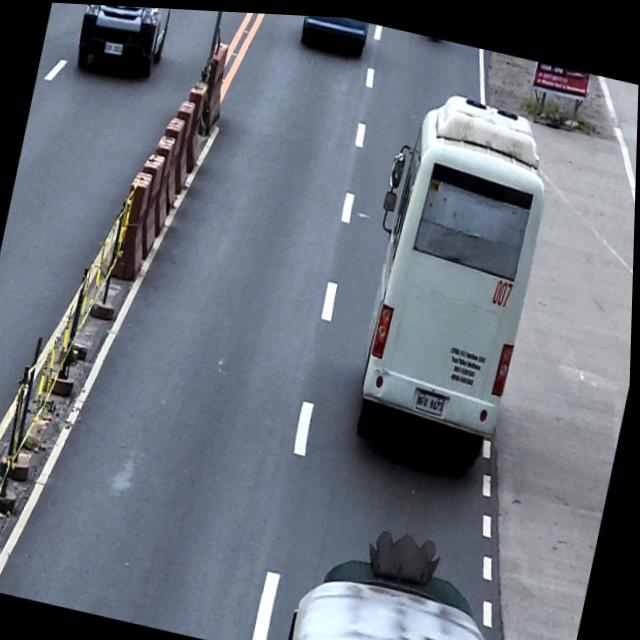Bus: (339, 71, 566, 472)
Car: (71, 3, 178, 85), (297, 12, 370, 58)
Jeep: (286, 498, 532, 640)
License-Plate: (414, 383, 449, 414), (102, 39, 124, 56)
